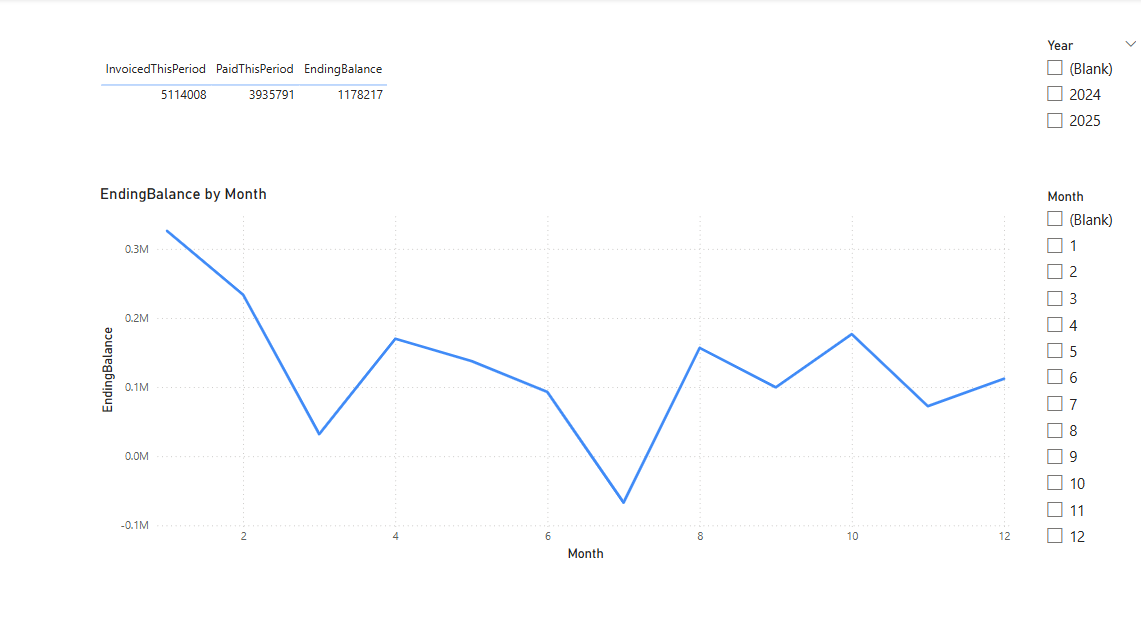

The page's visual inventory and layout, read from the dashboard file:
{"tool":"powerbi","page":{"name":"Page 1","canvas":[1280,720],"ordinal":0},"visuals":[{"type":"tableEx","fields":{"Values":["Invoices.InvoicedThisPeriod","Invoices.PaidThisPeriod","Invoices.EndingBalance"]},"box":[123.6,61.8,379.1,104.4],"z":0},{"type":"slicer","fields":{"Values":["Calendar.Year"]},"box":[1156.4,38.5,123.6,149.7],"z":1000},{"type":"slicer","fields":{"Values":["Calendar.Month"]},"box":[1156.4,204.6,111.2,418.9],"z":2000},{"type":"lineChart","fields":{"Category":["Calendar.Month"],"Y":["Invoices.EndingBalance"]},"box":[123.6,204.6,1013.6,418.9],"z":2001}]}

Visuals, with their boxes in screenshot pixels (x1, y1, x2, y2), scaled from the page's 1280x720 canvas onto the 1141x624 screenshot:
tableEx - Invoices.InvoicedThisPeriod x Invoices.PaidThisPeriod: bbox(110, 54, 448, 144)
slicer - Calendar.Year: bbox(1031, 33, 1140, 163)
slicer - Calendar.Month: bbox(1031, 177, 1130, 540)
lineChart - Calendar.Month x Invoices.EndingBalance: bbox(110, 177, 1014, 540)
